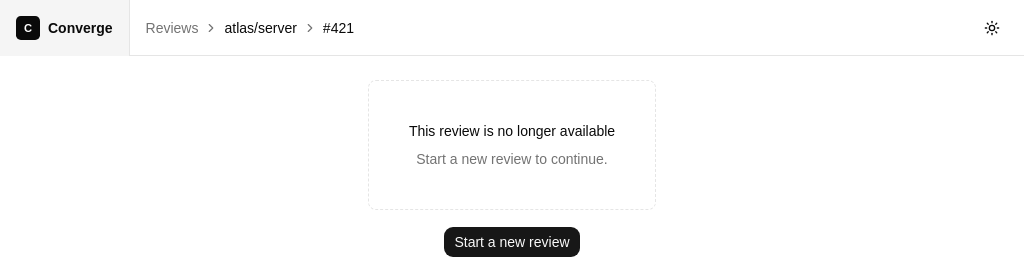
it: ReviewPage (other statuses) › renders a terminal panel, not the diff layout or Finish Review, for a finished review
The image size is (1024, 275).
Check: the text "This review is no longer available" is shown, box [409,121,615,141]
Click the button "Start a new review".
click(512, 242)  # box [443,226,581,258]
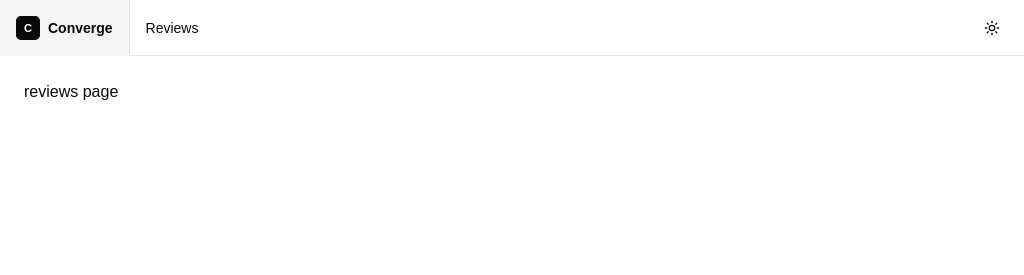
Check: the text "reviews page" is shown, box [24,83,118,100]
